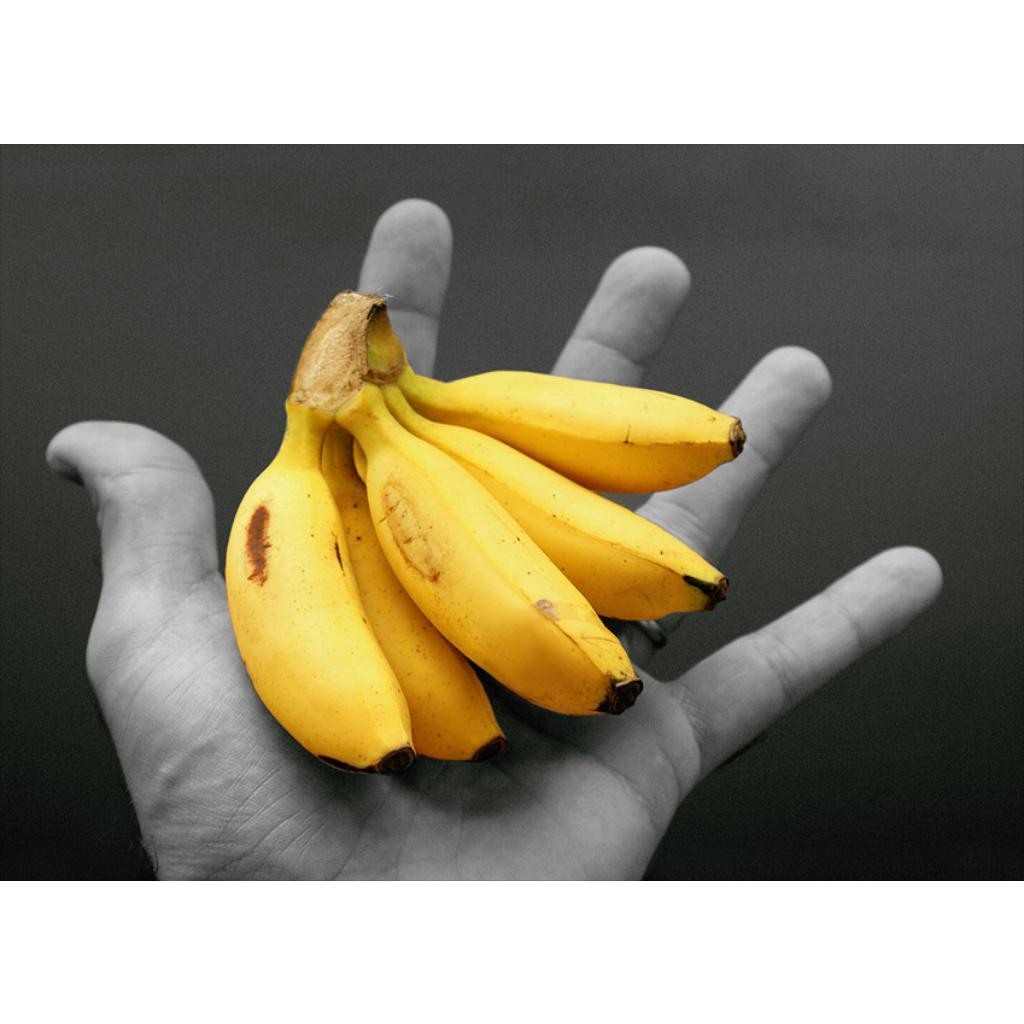banana: (338, 388, 644, 718), (224, 404, 417, 775), (394, 371, 749, 505)
